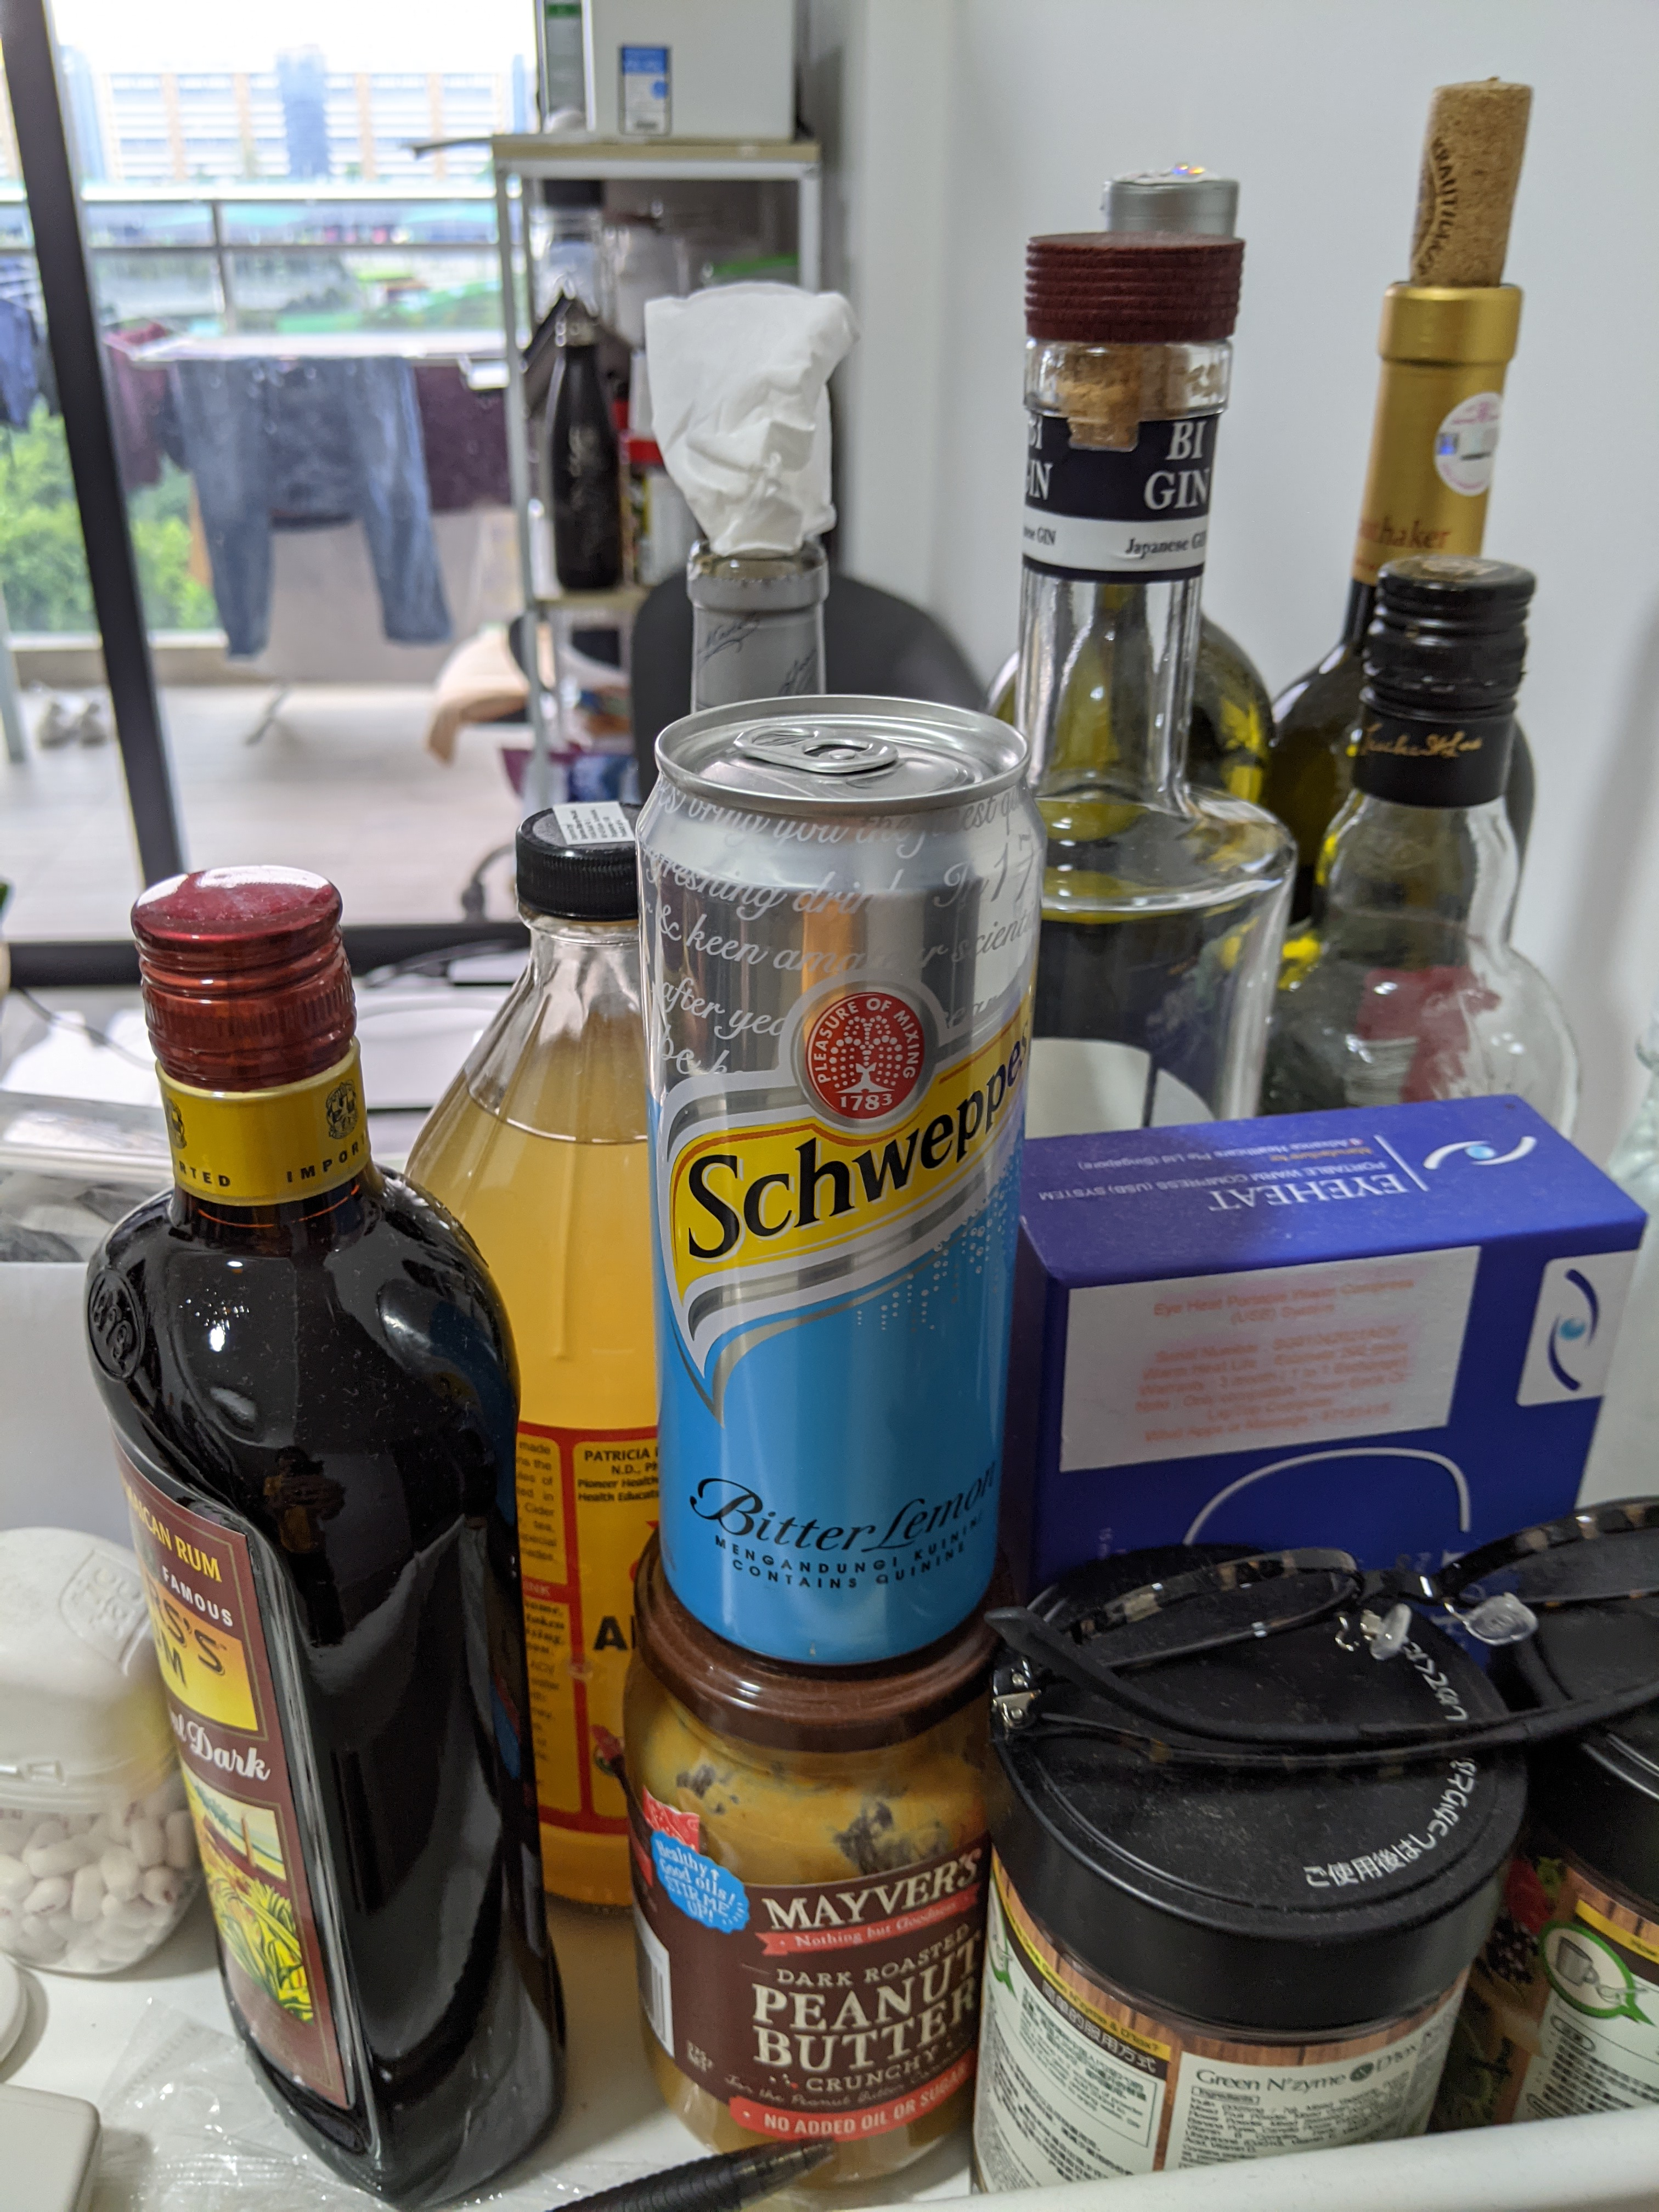schweppes drink can bitter lemon: (613, 672, 1072, 1689)
